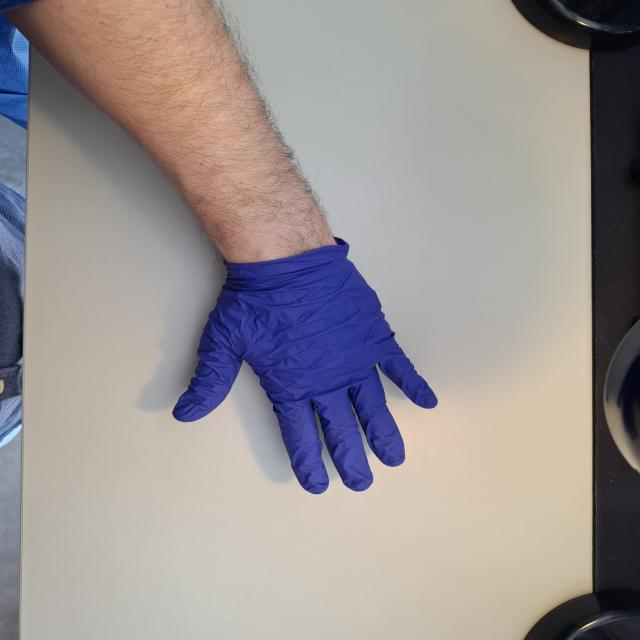glove_on: (167, 240, 441, 497)
